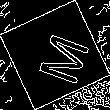M_W: (23, 25, 87, 85)
